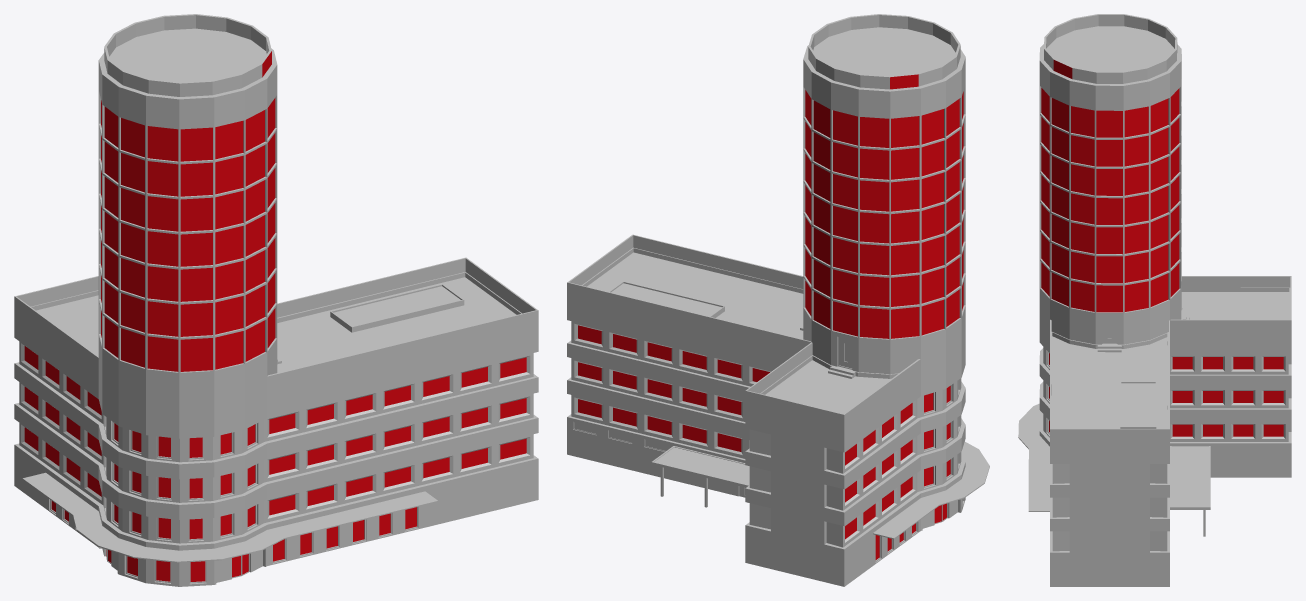
File: SM_infrastructure_buildings_04.gltf
The picture shows the model from 3 angles, left to right: view 1: azimuth 30°, elevation 25°; view 2: azimuth 150°, elevation 25°; view 3: azimuth 270°, elevation 25°; orthographic projection. The views are drawn at different scales.
Visible parts, largest first — view 1: infrastructure_buildings_04; view 2: infrastructure_buildings_04; view 3: infrastructure_buildings_04.
Boxes of the visible parts, <box> form: infrastructure_buildings_04: <box>14,14,538,586</box>; infrastructure_buildings_04: <box>567,14,989,586</box>; infrastructure_buildings_04: <box>1018,14,1291,586</box>.
Bounding box in the file's own units: 32 × 37 × 22.
